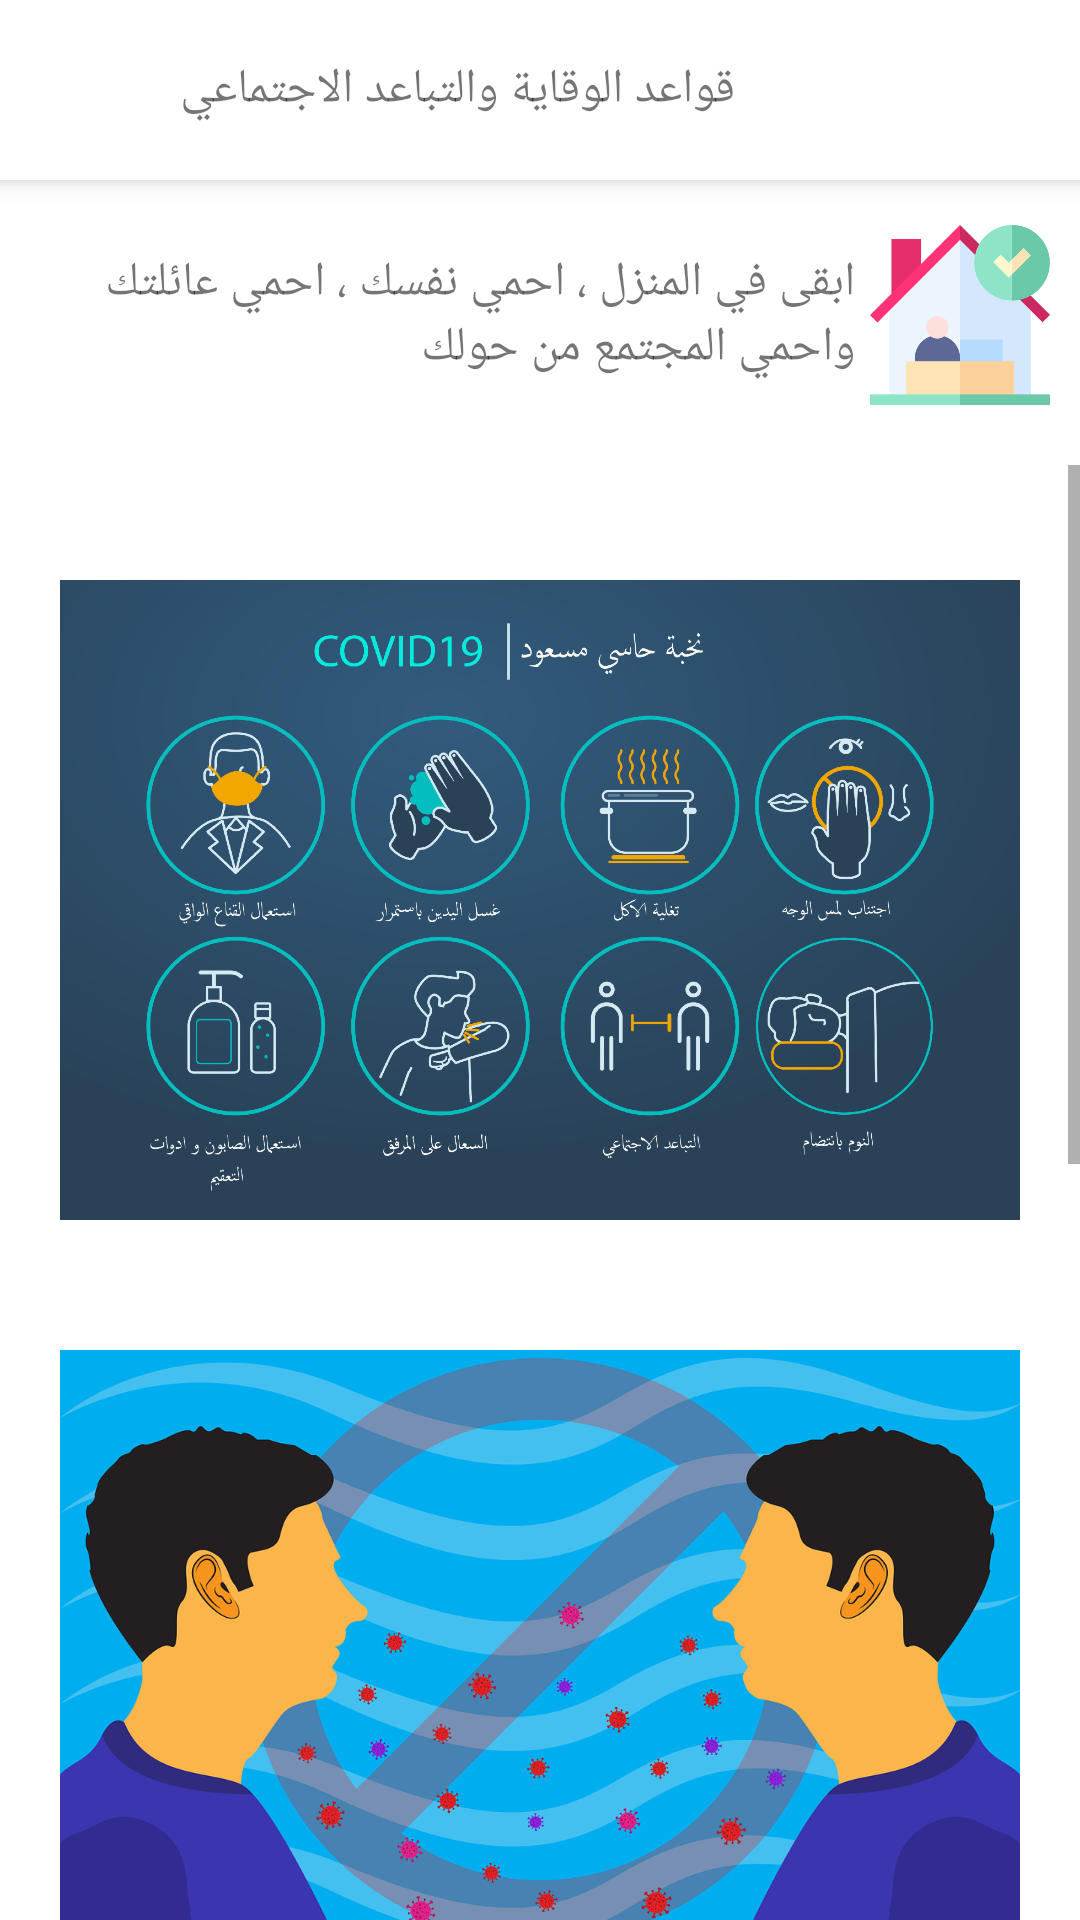

Icons on this 1080 × 1920 Android screen, each with its box as bbox=(x1, y1, x2, y2):
telecommuting: bbox=(870, 225, 1050, 405)
